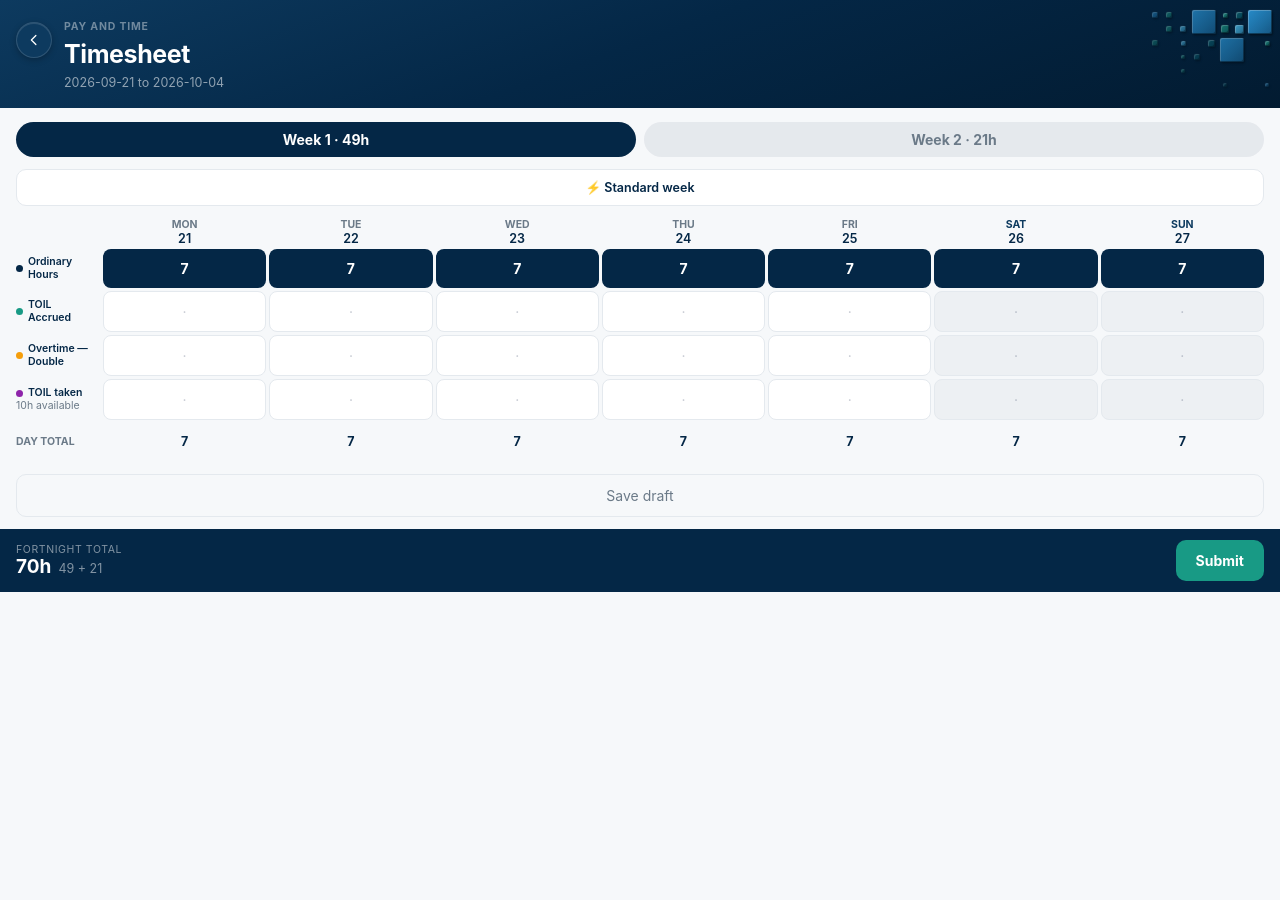
Test: over or under the fortnight › under: "Take TOIL" adds TOIL taken to cover the gap
Later steps or results of the test are not shown.
Expected: the text "Ordinary Hours" is shown, [16, 255, 72, 281]
Click the button "Submit".
click(1220, 561)  # box [1176, 540, 1264, 581]
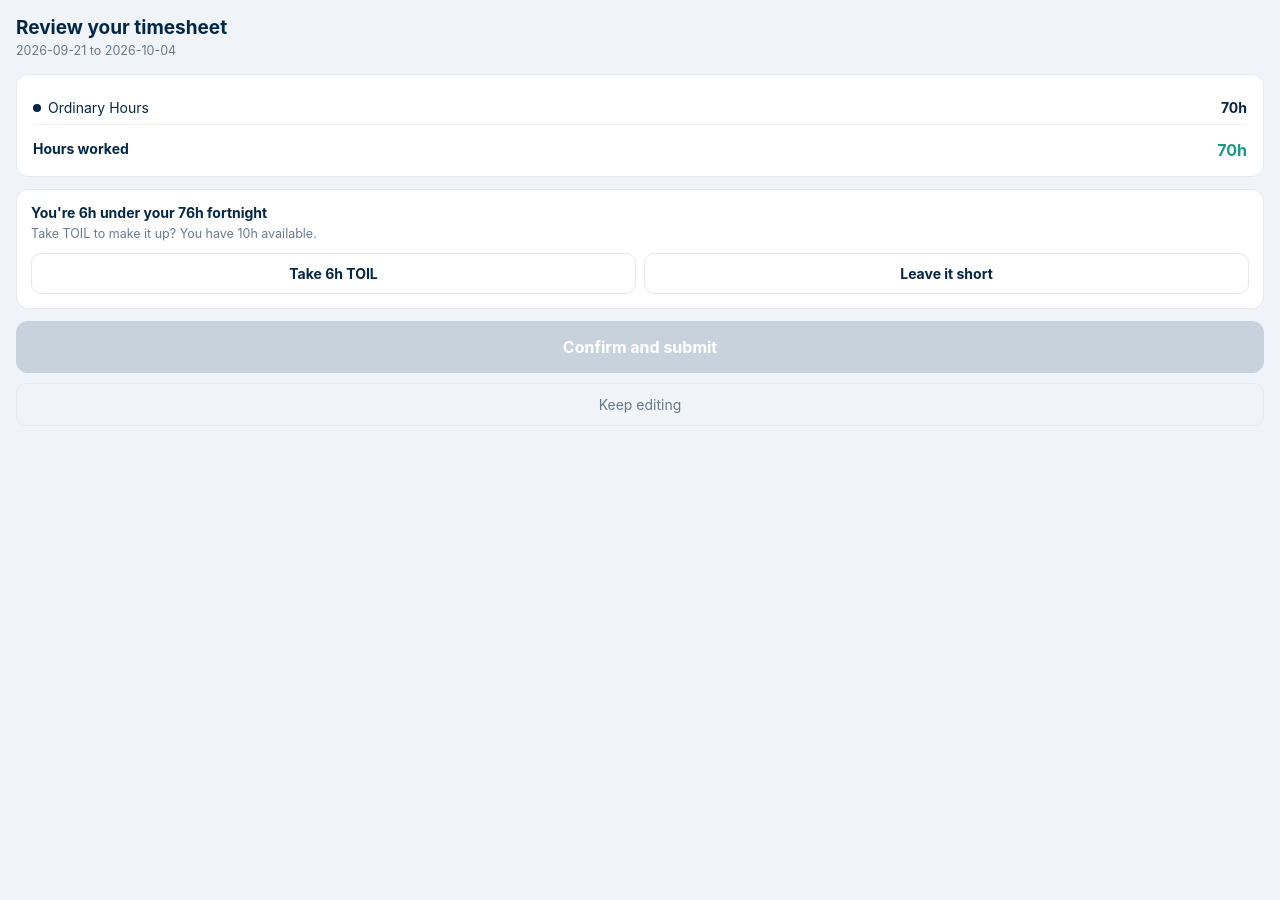
Result: the element that starts with "You're" is shown at [16, 189, 1264, 309]
